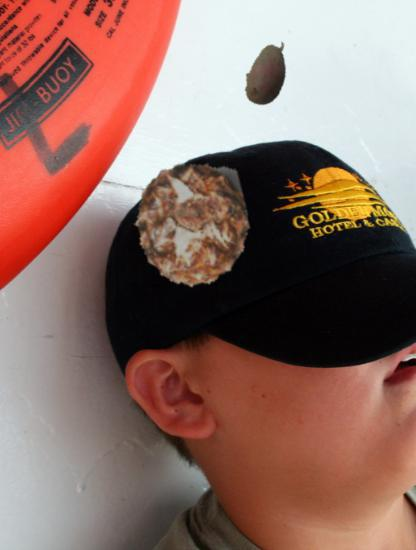Pineapple: (130, 161, 257, 288)
Potato: (232, 37, 302, 107)
